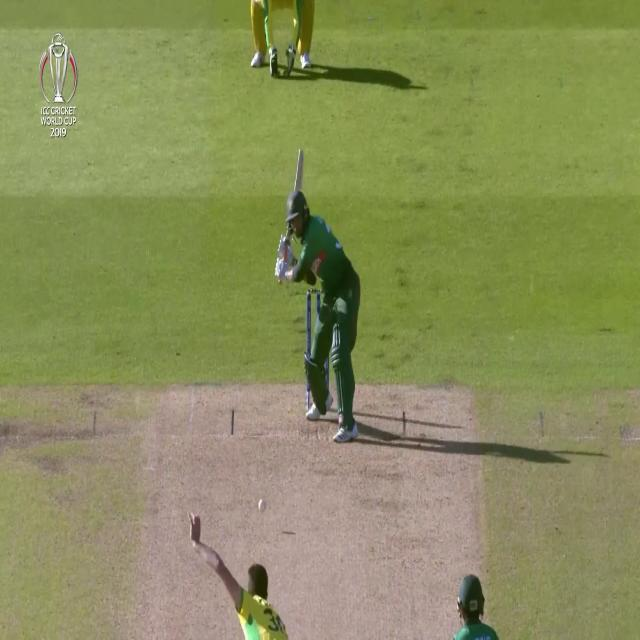ball: (256, 492, 269, 517)
